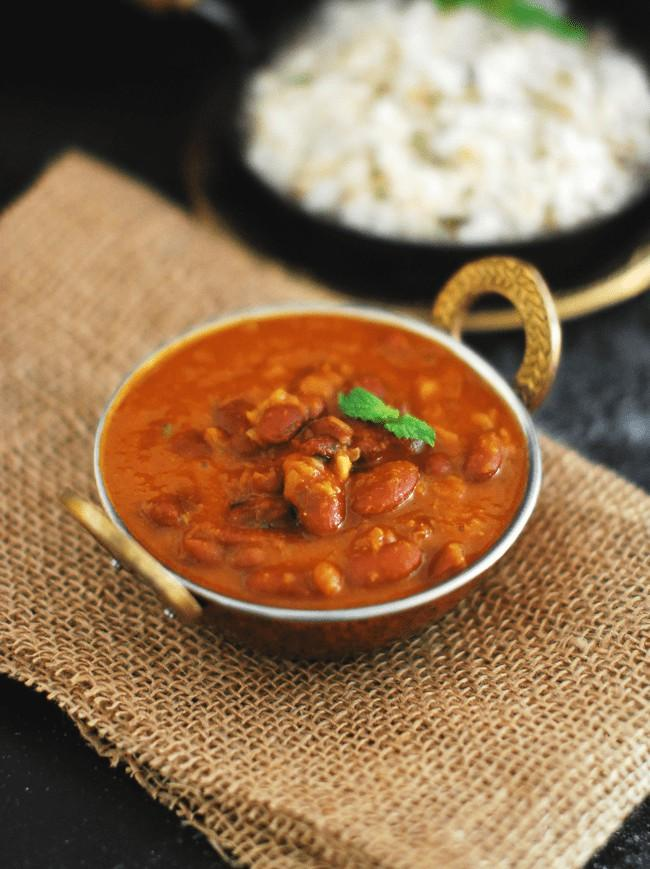RajmaCurry: (106, 314, 529, 606)
WhiteRice: (242, 0, 650, 242)
